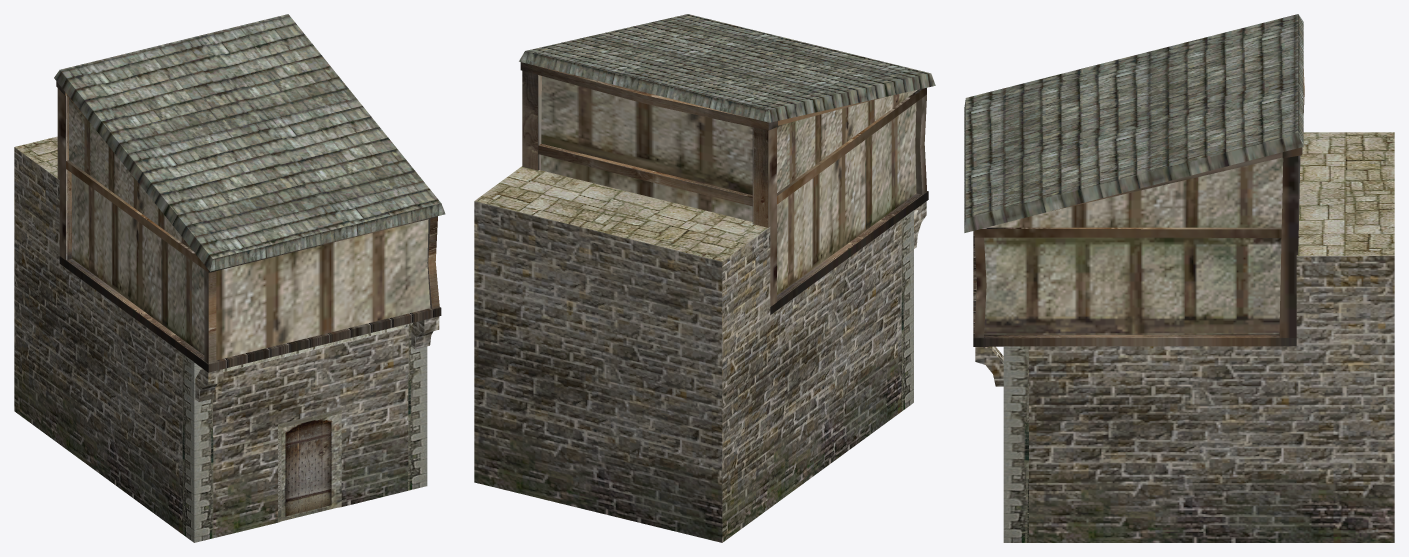
The model's file is building_servants_quarters_pantry.glb.
3 views of the same model, side by side, from view 1: azimuth 30°, elevation 25°; view 2: azimuth 150°, elevation 25°; view 3: azimuth 270°, elevation 25° (orthographic). The views are drawn at different scales.
Visible parts, largest first — view 1: building_servants_quarters_pantry; view 2: building_servants_quarters_pantry; view 3: building_servants_quarters_pantry.
Part boxes in pixels (x1=…): building_servants_quarters_pantry: x1=14, y1=14, x2=445, y2=542; building_servants_quarters_pantry: x1=474, y1=14, x2=935, y2=542; building_servants_quarters_pantry: x1=964, y1=14, x2=1394, y2=542.
Bounding box in the file's own units: 6.22 × 9.43 × 9.05.
6 materials, 6 textured.
